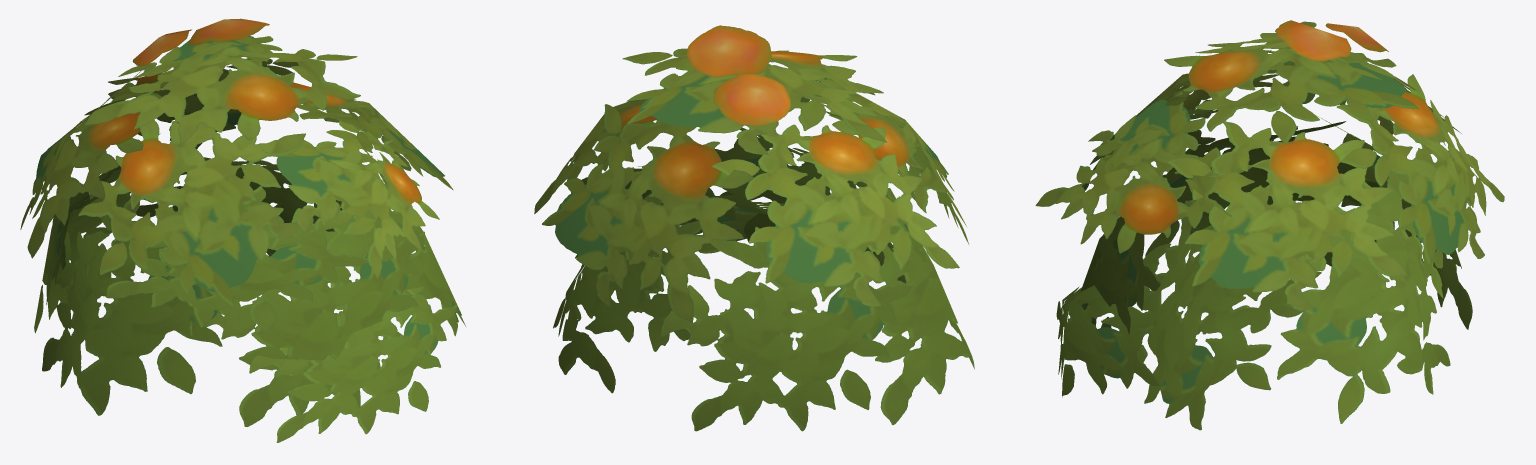
The model's file is main_map_tree_27.fbx.
3 views of the same model, side by side, from view 1: azimuth 30°, elevation 25°; view 2: azimuth 150°, elevation 25°; view 3: azimuth 270°, elevation 25° (orthographic). The views are drawn at different scales.
Visible parts, largest first — view 1: main_map_tree_27; view 2: main_map_tree_27; view 3: main_map_tree_27.
Boxes of the visible parts, x1=… form: main_map_tree_27: x1=20, y1=18, x2=465, y2=442; main_map_tree_27: x1=534, y1=25, x2=974, y2=431; main_map_tree_27: x1=1035, y1=20, x2=1504, y2=430.
Size of the model in its own units: 96.45 by 76.62 by 97.89.
